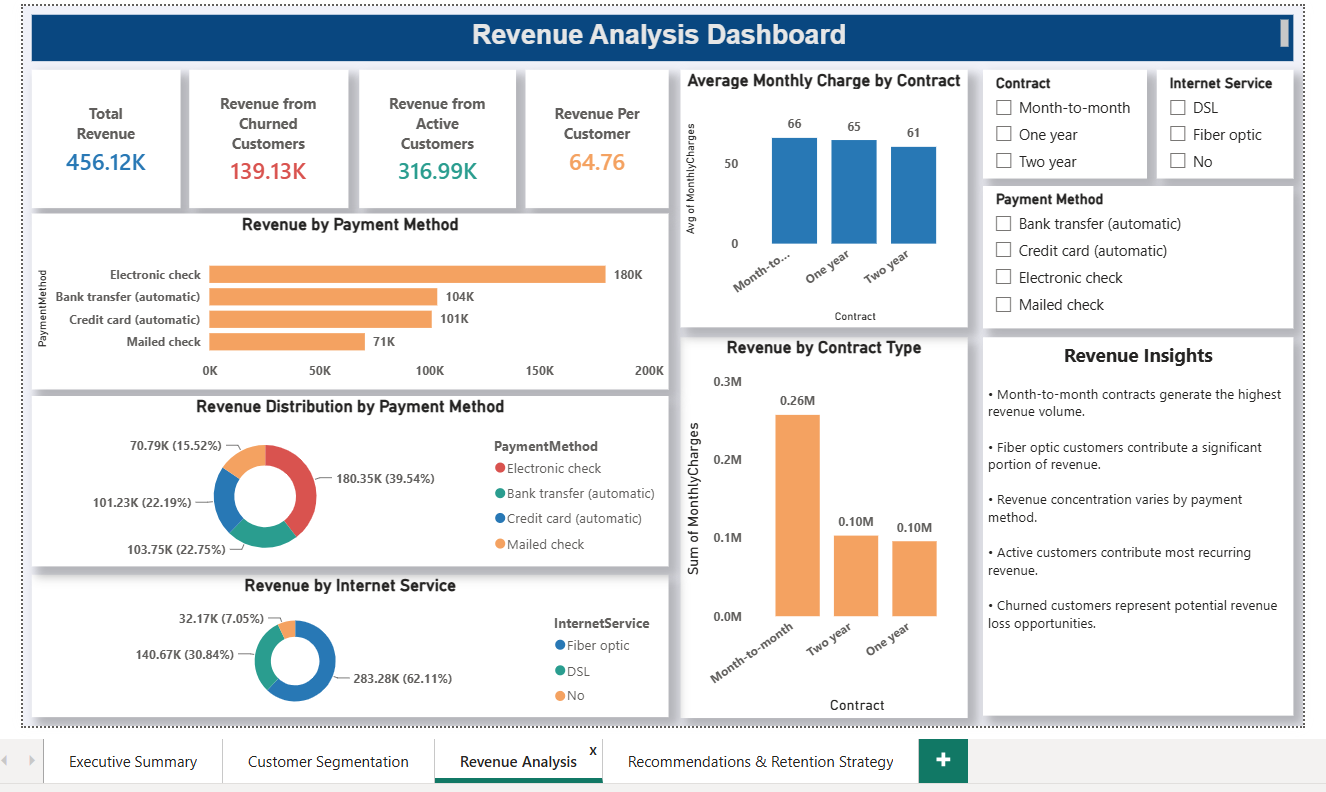

This screenshot's page, from the dashboard's own definition file:
{"tool":"powerbi","page":{"name":"Revenue Analysis","canvas":[1280,720],"ordinal":2},"visuals":[{"type":"textbox","box":[9,9,1261.5,46.2],"z":0},{"type":"cardVisual","fields":{"Data":["Measures (2).Total Revenue"]},"box":[9,64.1,148.7,138.5],"z":1000},{"type":"cardVisual","fields":{"Data":["Measures (2).Revenue from Churned Customers"]},"box":[166.7,64.1,159,138.5],"z":2000},{"type":"cardVisual","fields":{"Data":["Measures (2).Revenue from Active Customers"]},"box":[335.9,64.1,156.4,138.5],"z":3000},{"type":"cardVisual","fields":{"Data":["Measures (2).Revenue Per Customer"]},"box":[502.6,64.1,143.6,138.5],"z":4000},{"type":"clusteredColumnChart","title":"Revenue by Contract Type","fields":{"Category":["telecom_churn fact_customer_churn.Contract"],"Y":["Sum(telecom_churn fact_customer_churn.MonthlyCharges)"]},"box":[657.7,330.8,287.2,380.8],"z":5000},{"type":"clusteredBarChart","title":"Revenue by Payment Method","fields":{"Category":["telecom_churn fact_customer_churn.PaymentMethod"],"Y":["Sum(telecom_churn fact_customer_churn.MonthlyCharges)"]},"box":[9,207.7,637.2,175.6],"z":6000},{"type":"donutChart","title":"Revenue by Internet Service","fields":{"Category":["telecom_churn fact_customer_churn.InternetService"],"Y":["Sum(telecom_churn fact_customer_churn.MonthlyCharges)"]},"box":[9,569.2,637.2,142.3],"z":7000},{"type":"clusteredColumnChart","title":"Average Monthly Charge by Contract","fields":{"Category":["telecom_churn fact_customer_churn.Contract"],"Y":["Avg(telecom_churn fact_customer_churn.MonthlyCharges)"]},"box":[657.7,64.1,287.2,257.7],"z":8000},{"type":"donutChart","title":"Revenue Distribution by Payment Method","fields":{"Category":["telecom_churn fact_customer_churn.PaymentMethod"],"Y":["Sum(telecom_churn fact_customer_churn.MonthlyCharges)"]},"box":[9,389.7,637.2,170.5],"z":9000},{"type":"slicer","fields":{"Values":["telecom_churn fact_customer_churn.Contract"]},"box":[960.3,64.1,164.1,109],"z":10000},{"type":"slicer","fields":{"Values":["telecom_churn fact_customer_churn.InternetService"]},"box":[1133.3,64.1,137.2,109],"z":11000},{"type":"slicer","fields":{"Values":["telecom_churn fact_customer_churn.PaymentMethod"]},"box":[960.3,179.5,310.3,142.3],"z":12000},{"type":"textbox","box":[960.3,330.8,310.3,378.2],"z":13000}]}

Visuals, with their boxes on the page's 1280x720 design canvas (x1, y1, x2, y2). These are canvas units, not pixel positions in the 1326x792 screenshot, which may show the page scaled, cropped or inside an application window:
textbox: box=[9, 9, 1270, 55]
cardVisual - Measures (2).Total Revenue: box=[9, 64, 158, 203]
cardVisual - Measures (2).Revenue from Churned Customers: box=[167, 64, 326, 203]
cardVisual - Measures (2).Revenue from Active Customers: box=[336, 64, 492, 203]
cardVisual - Measures (2).Revenue Per Customer: box=[503, 64, 646, 203]
"Revenue by Contract Type" clusteredColumnChart: box=[658, 331, 945, 712]
"Revenue by Payment Method" clusteredBarChart: box=[9, 208, 646, 383]
"Revenue by Internet Service" donutChart: box=[9, 569, 646, 712]
"Average Monthly Charge by Contract" clusteredColumnChart: box=[658, 64, 945, 322]
"Revenue Distribution by Payment Method" donutChart: box=[9, 390, 646, 560]
slicer - telecom_churn fact_customer_churn.Contract: box=[960, 64, 1124, 173]
slicer - telecom_churn fact_customer_churn.InternetService: box=[1133, 64, 1270, 173]
slicer - telecom_churn fact_customer_churn.PaymentMethod: box=[960, 180, 1271, 322]
textbox: box=[960, 331, 1271, 709]
